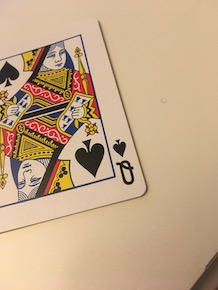QueenOfSpades: (1, 12, 153, 243)
